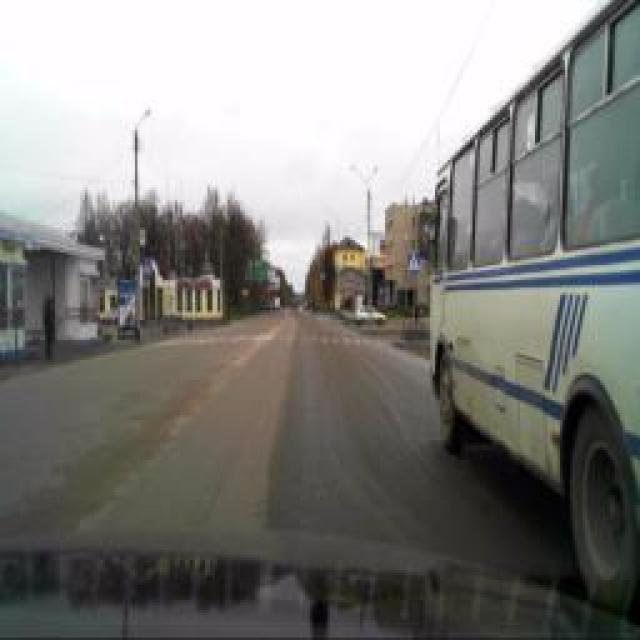sign: (406, 253, 419, 275)
